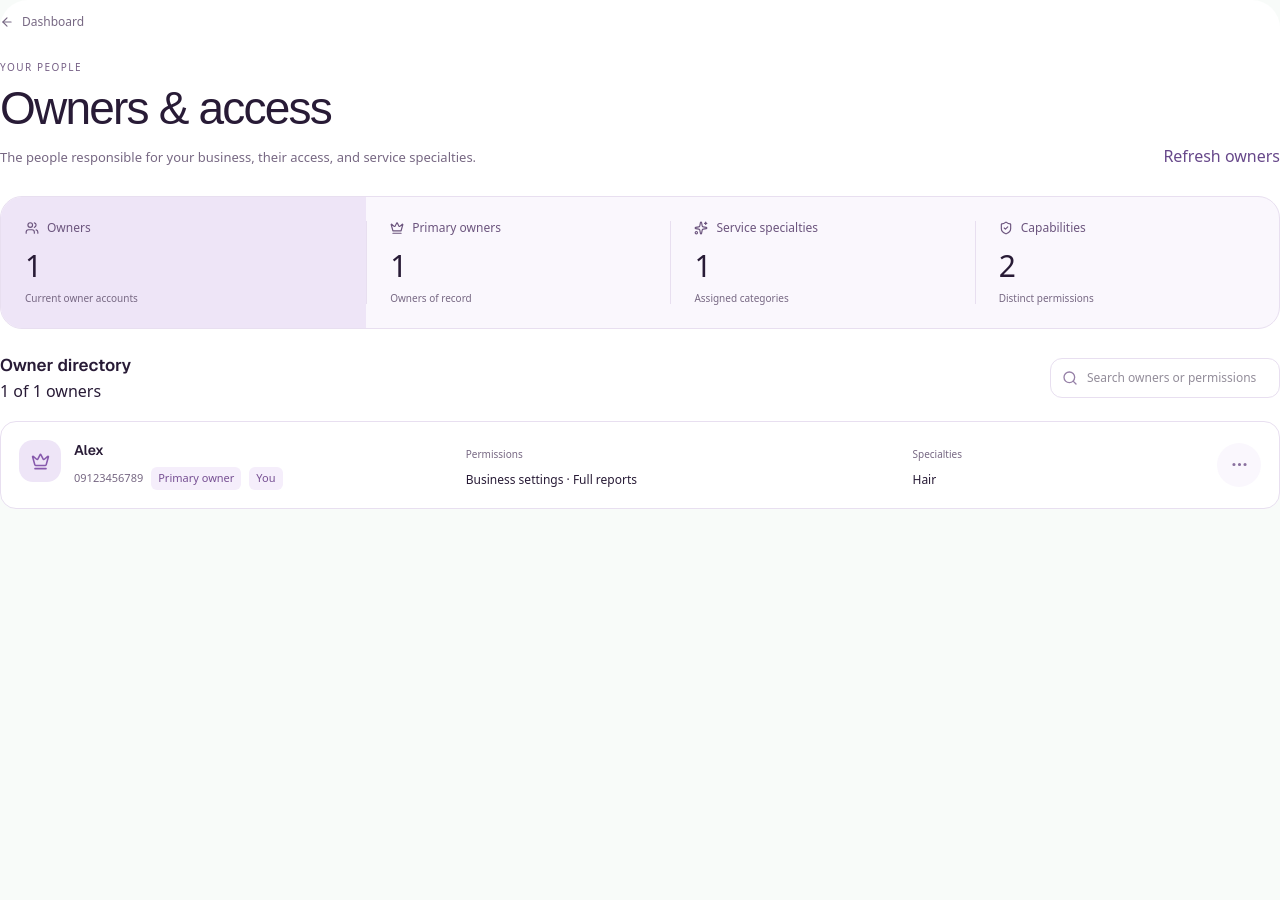
Test: redesign Owners › protects primary settings permission and requires at least one permission
This screenshot has width=1280, height=900.
Press ArrowDown in the button named "Manage Alex", box [1217,443,1261,487]
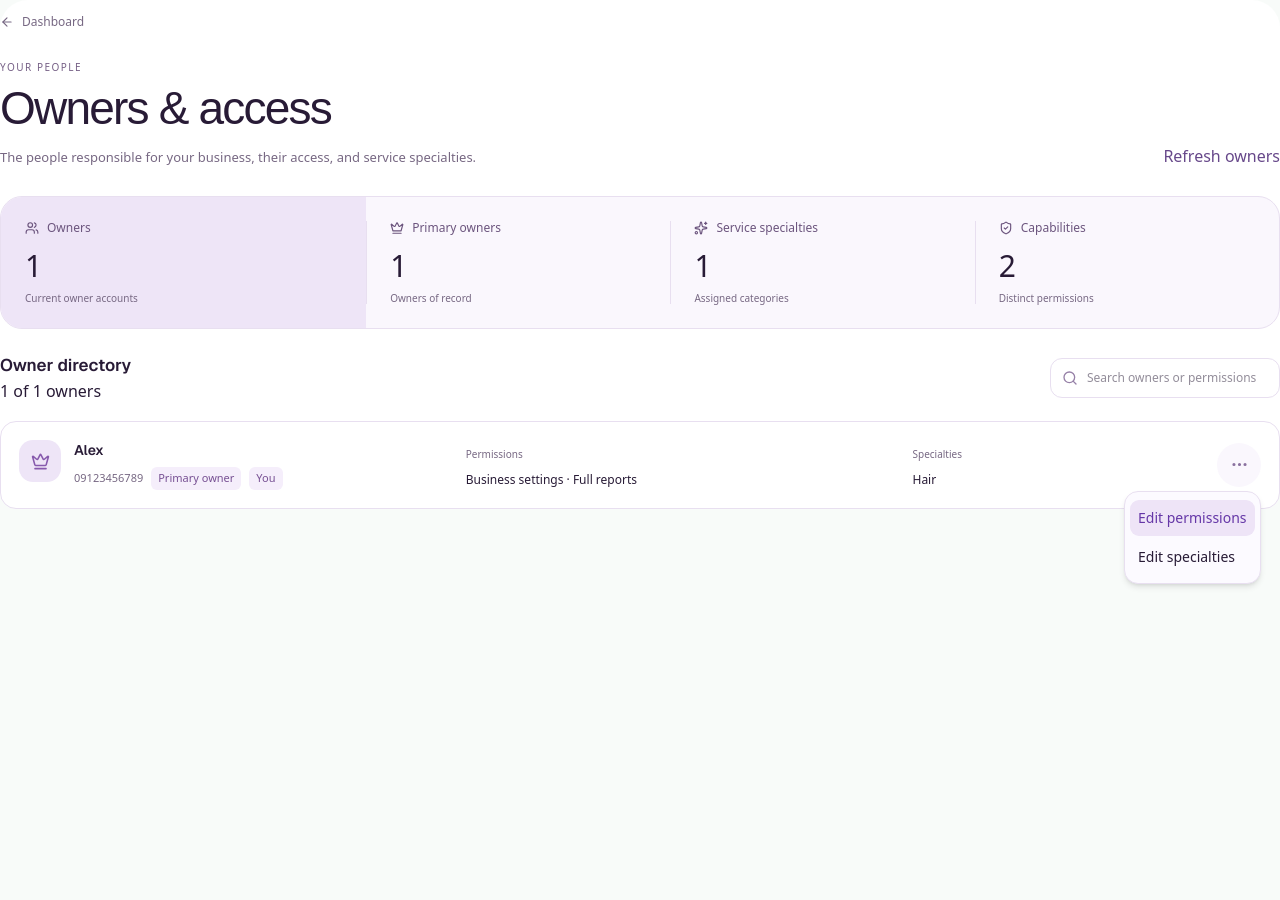
Click the menu item "Edit permissions" at (1192, 518), box [1130,500,1254,536]
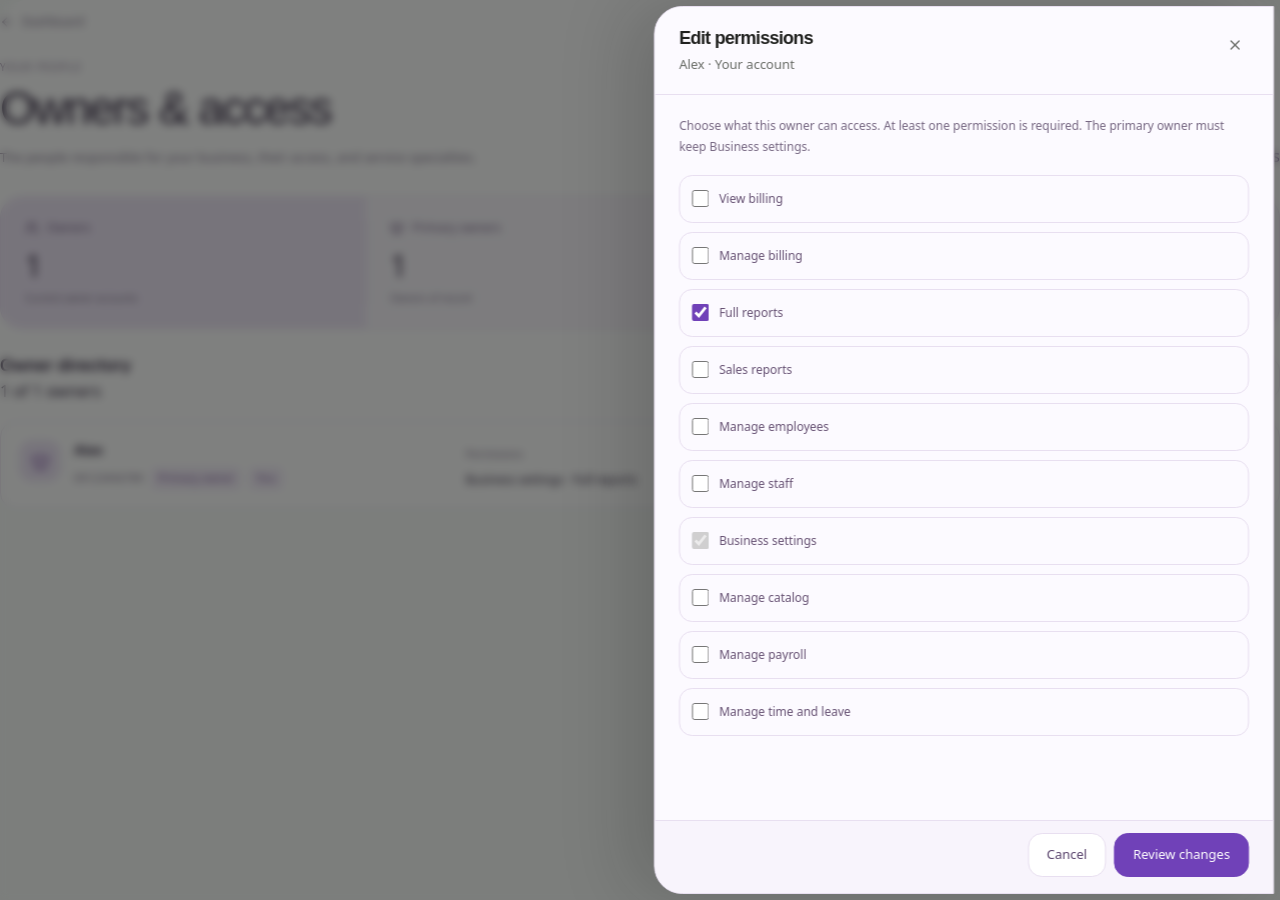
Check: the checkbox labelled "Business settings" is disabled, box [692,532,709,549]
